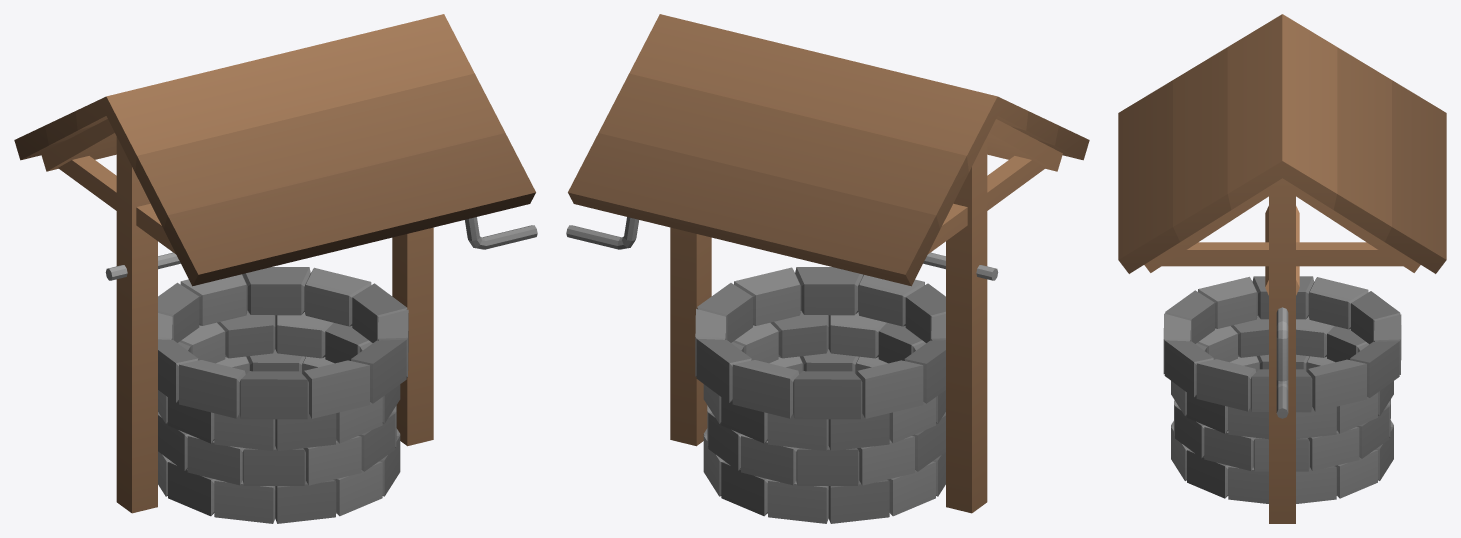
The model's file is well.fbx.
The picture shows the model from 3 angles, left to right: view 1: azimuth 30°, elevation 25°; view 2: azimuth 150°, elevation 25°; view 3: azimuth 270°, elevation 25°; orthographic projection. The views are drawn at different scales.
Parts seen in each view (by area): view 1: well; view 2: well; view 3: well.
Boxes of the visible parts, left/top/right/bottom form: well: left=14, top=14, right=537, bottom=523; well: left=566, top=14, right=1089, bottom=523; well: left=1118, top=14, right=1446, bottom=523.
Bounding box in the file's own units: 287 × 267 × 214.
